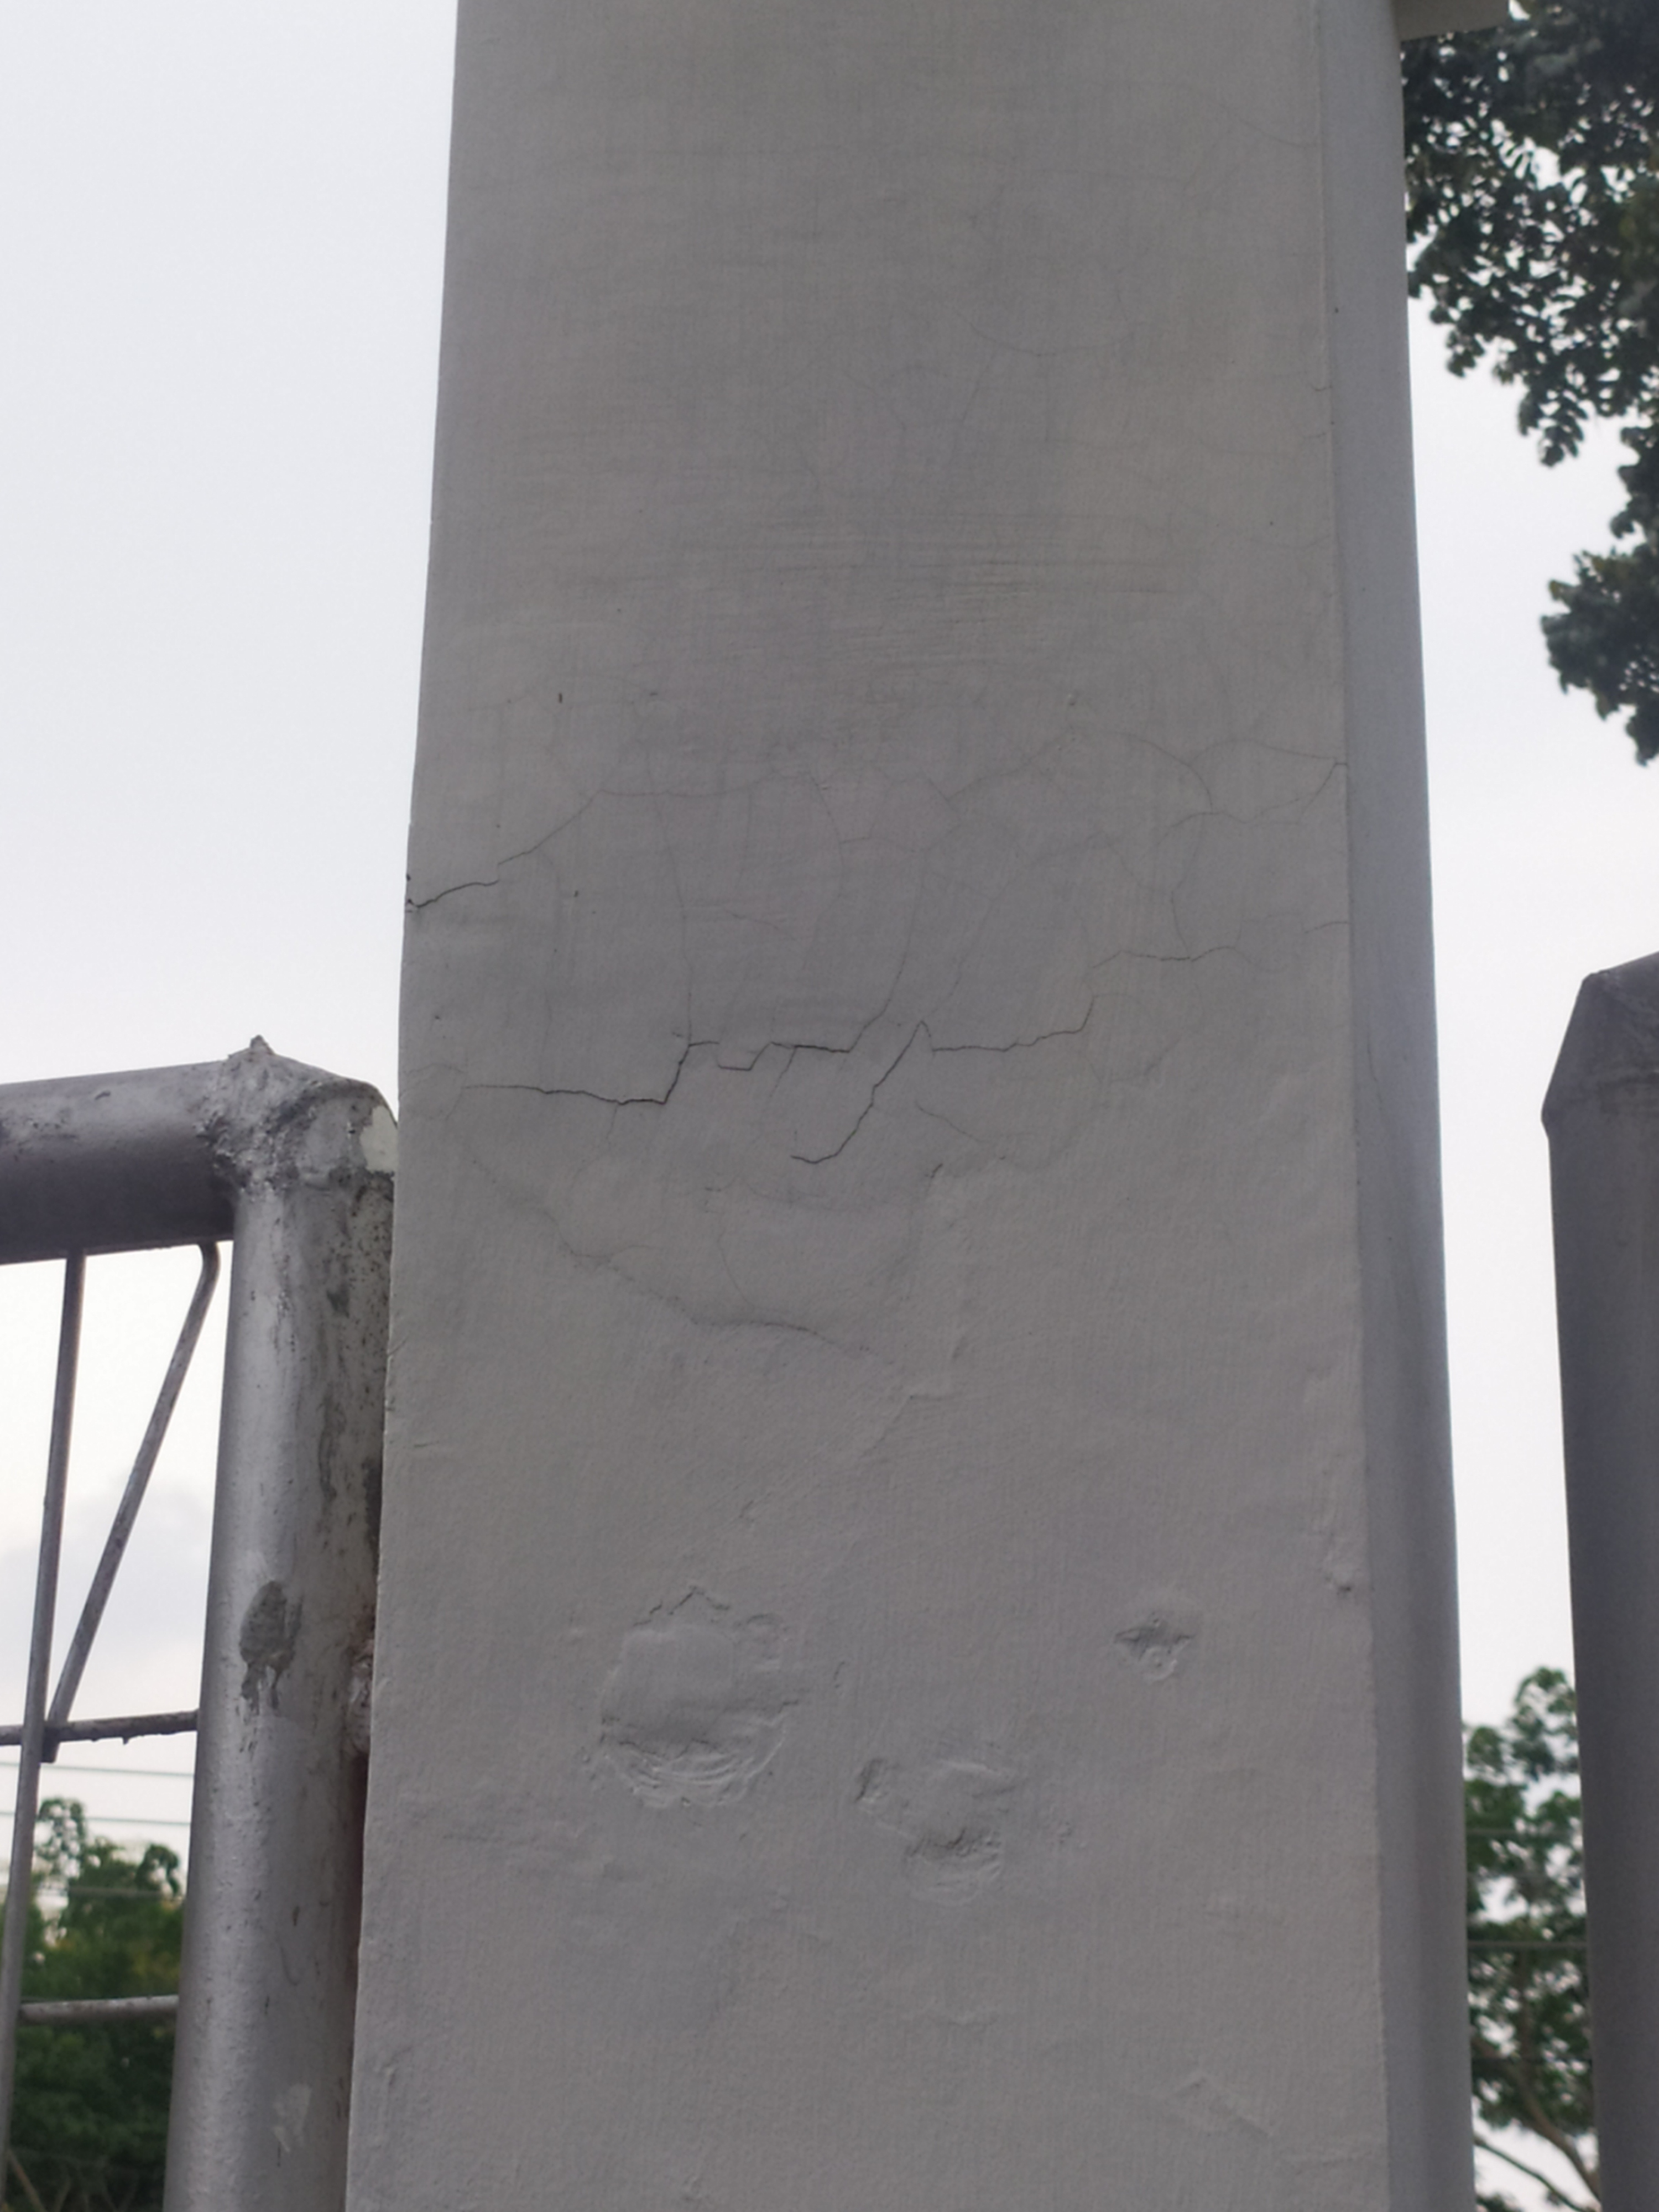crack: (450, 932, 1256, 1172), (403, 786, 608, 918)
